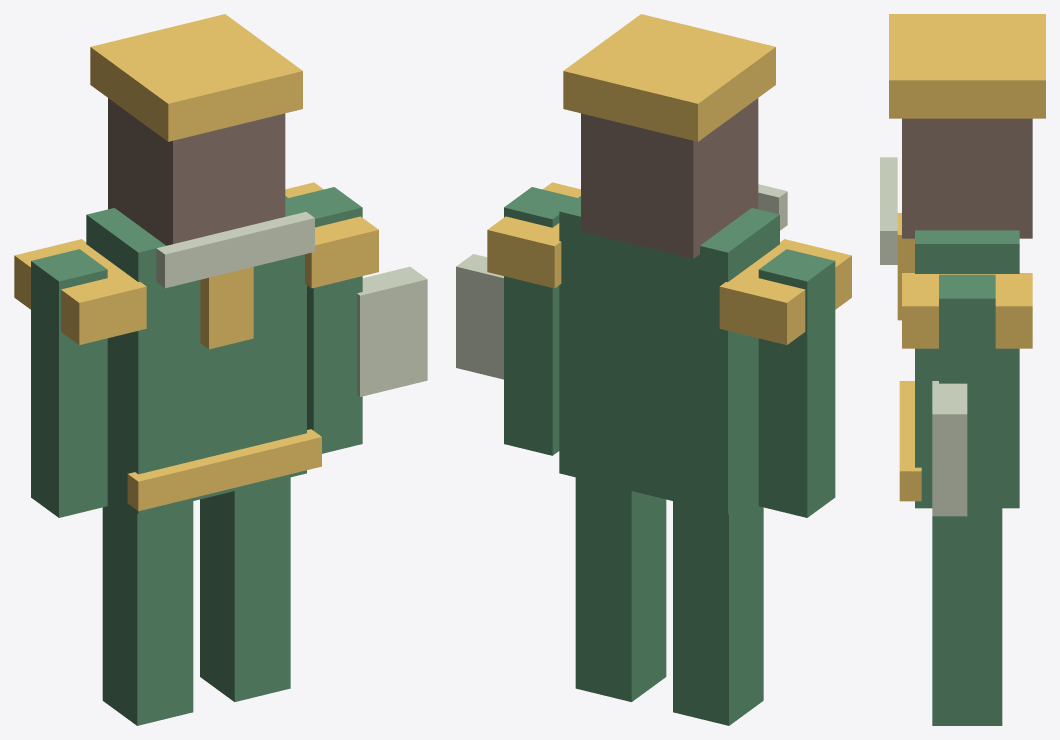
The model's file is 06_varren_spirebound_tactician_under_mycelial.glb.
3 renders of one model, left to right at view 1: azimuth 30°, elevation 25°; view 2: azimuth 150°, elevation 25°; view 3: azimuth 270°, elevation 25°, orthographic.
Visible parts, largest first — view 1: Varren Spirebound, Tactician under Mycelial; view 2: Varren Spirebound, Tactician under Mycelial; view 3: Varren Spirebound, Tactician under Mycelial.
Boxes of the visible parts, x1,y1,x2,y2 form: Varren Spirebound, Tactician under Mycelial: (14, 14, 427, 725); Varren Spirebound, Tactician under Mycelial: (456, 14, 851, 725); Varren Spirebound, Tactician under Mycelial: (880, 14, 1045, 725).
Bounding box in the file's own units: 0.9263 × 1.54 × 0.361.
